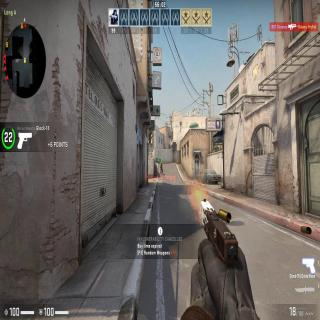CT-Body: (160, 161, 163, 175)
CT-Head: (161, 162, 162, 164)
